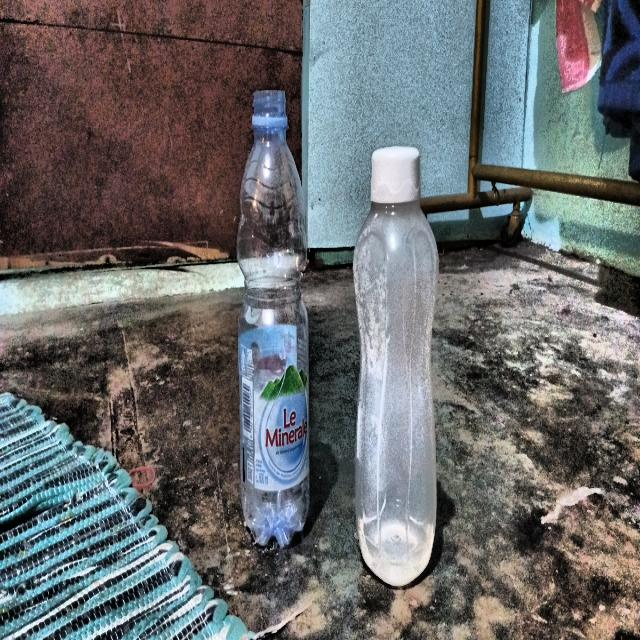Bottle: (351, 141, 441, 587), (234, 85, 312, 547)
